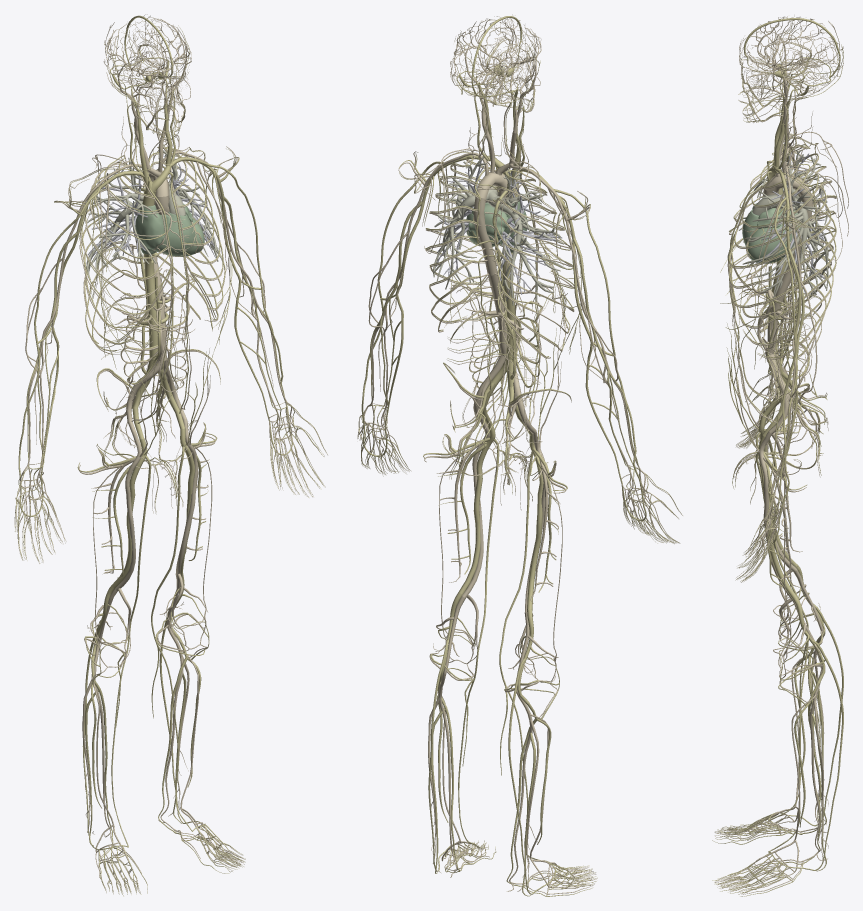
Rendered from vessels.glb.
The picture shows the model from 3 angles, left to right: view 1: azimuth 30°, elevation 25°; view 2: azimuth 150°, elevation 25°; view 3: azimuth 270°, elevation 25°; orthographic projection. The views are drawn at different scales.
Visible parts, largest first — view 1: right_superior_intercostal_vein, posterior_intercostal_arteries__r, left_superior_intercostal_vein, right_atrium, great_saphenous_vein__l, right_ventricle, great_saphenous_vein__r, posterior_intercostal_arteries__l, femoral_artery__r, cephalic_vein__r, femoral_artery__l, femoral_vein__r (+1 smaller); view 2: posterior_intercostal_arteries__r, right_superior_intercostal_vein, left_superior_intercostal_vein, posterior_intercostal_arteries__l, great_saphenous_vein__l, great_saphenous_vein__r, femoral_vein__l, femoral_vein__r, cephalic_vein__r, thoracic_aorta, basilic_vein__r, basilic_vein__l (+2 smaller); view 3: left_superior_intercostal_vein, posterior_intercostal_arteries__l, right_superior_intercostal_vein, cephalic_vein__l, left_ventricle, small_saphenous_vein__l, great_saphenous_vein__r, femoral_artery__l, abdominal_aorta, great_saphenous_vein__l, small_saphenous_vein__r, posterior_intercostal_arteries__r (+23 smaller).
Part boxes in pixels (bbox=[...]): right_superior_intercostal_vein: bbox=[81, 155, 172, 351]; posterior_intercostal_arteries__r: bbox=[79, 163, 169, 354]; left_superior_intercostal_vein: bbox=[144, 147, 225, 329]; right_atrium: bbox=[135, 203, 170, 254]; great_saphenous_vein__l: bbox=[151, 446, 192, 831]; right_ventricle: bbox=[154, 211, 197, 256]; great_saphenous_vein__r: bbox=[111, 455, 151, 846]; posterior_intercostal_arteries__l: bbox=[149, 153, 225, 331]; femoral_artery__r: bbox=[115, 431, 141, 590]; cephalic_vein__r: bbox=[18, 187, 101, 488]; femoral_artery__l: bbox=[175, 419, 198, 575]; femoral_vein__r: bbox=[112, 438, 147, 588]; posterior_intercostal_arteries__r: bbox=[478, 188, 574, 358]; right_superior_intercostal_vein: bbox=[492, 170, 574, 357]; left_superior_intercostal_vein: bbox=[425, 156, 502, 330]; posterior_intercostal_arteries__l: bbox=[426, 177, 501, 332]; great_saphenous_vein__l: bbox=[458, 439, 499, 845]; great_saphenous_vein__r: bbox=[499, 451, 539, 859]; femoral_vein__l: bbox=[459, 423, 495, 594]; femoral_vein__r: bbox=[527, 435, 543, 610]; cephalic_vein__r: bbox=[554, 189, 643, 496]; thoracic_aorta: bbox=[473, 197, 496, 275]; basilic_vein__r: bbox=[572, 238, 622, 483]; basilic_vein__l: bbox=[384, 202, 424, 426]; left_superior_intercostal_vein: bbox=[729, 164, 836, 358]; posterior_intercostal_arteries__l: bbox=[729, 175, 836, 359]; right_superior_intercostal_vein: bbox=[729, 144, 836, 304]; cephalic_vein__l: bbox=[774, 197, 796, 518]; left_ventricle: bbox=[748, 224, 794, 263]; small_saphenous_vein__l: bbox=[803, 640, 843, 870]; great_saphenous_vein__r: bbox=[755, 432, 820, 820]; femoral_artery__l: bbox=[759, 431, 793, 601]; abdominal_aorta: bbox=[765, 266, 793, 354]; great_saphenous_vein__l: bbox=[755, 452, 820, 851]; small_saphenous_vein__r: bbox=[803, 604, 843, 826]; posterior_intercostal_arteries__r: bbox=[729, 153, 836, 308].
Bounding box in the file's own units: 0.6639 × 1.7 × 0.2489.
